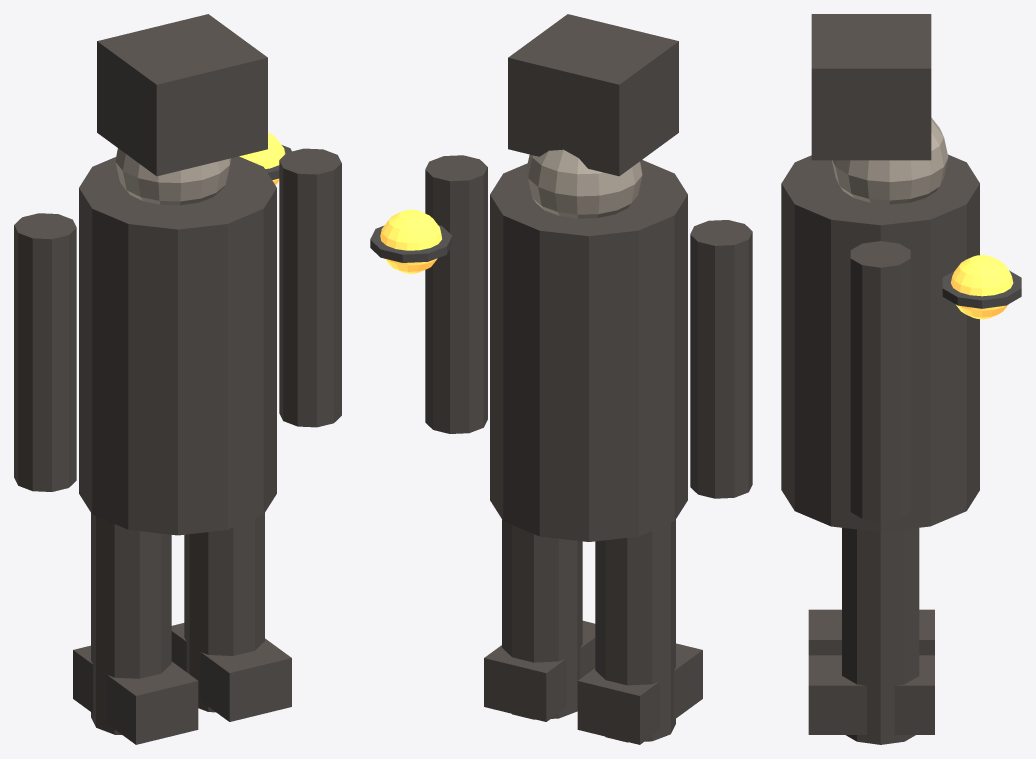
Rendered from cinder_acolyte.glb.
3 renders of one model, left to right at view 1: azimuth 30°, elevation 25°; view 2: azimuth 150°, elevation 25°; view 3: azimuth 270°, elevation 25°, orthographic.
Parts seen in each view (by area): view 1: cinder_acolyte; view 2: cinder_acolyte; view 3: cinder_acolyte.
Boxes of the visible parts, x1,y1,x2,y2 form: cinder_acolyte: [14, 14, 341, 744]; cinder_acolyte: [370, 14, 752, 744]; cinder_acolyte: [781, 14, 1021, 744].
Size of the model in its own units: 0.8118 by 1.59 by 0.5212.
